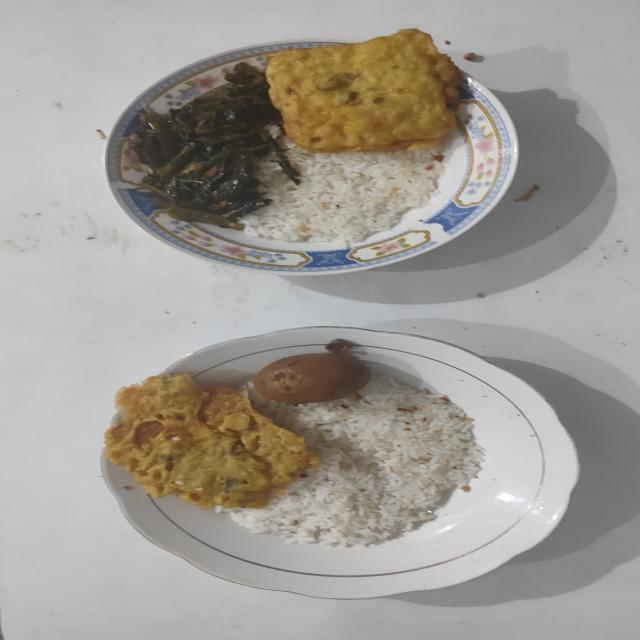nasi_putih: (230, 376, 484, 548), (243, 125, 450, 247)
tumis_kangkung: (132, 62, 300, 230)
